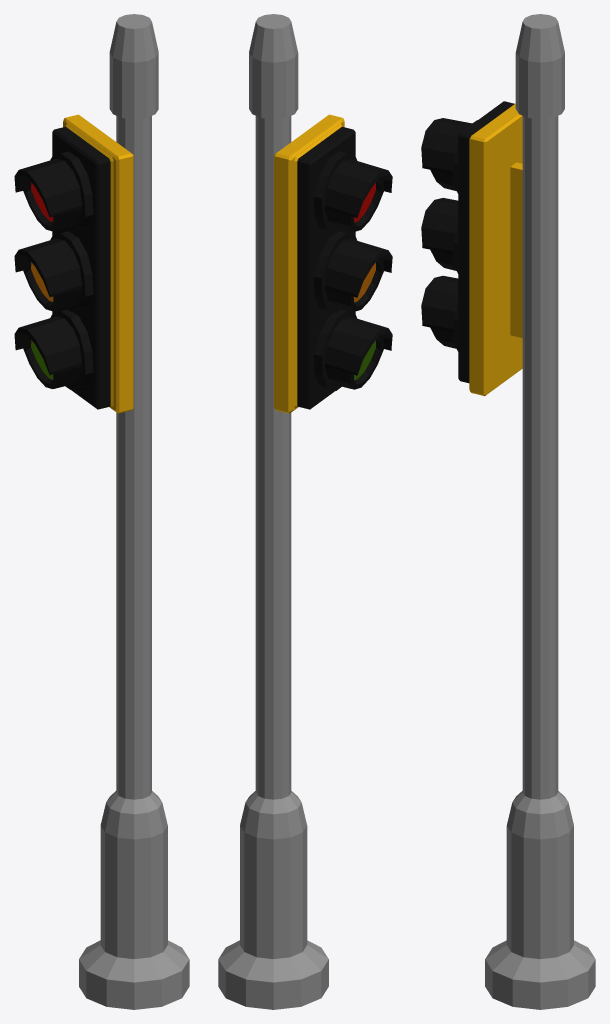
Rendered from TLight.fbx.
3 renders of one model, left to right at view 1: azimuth 30°, elevation 25°; view 2: azimuth 150°, elevation 25°; view 3: azimuth 330°, elevation 25°, orthographic.
Visible parts, largest first — view 1: Traffic Lights1; view 2: Traffic Lights1; view 3: Traffic Lights1.
Part boxes in pixels (<box>): Traffic Lights1: <box>14,14,189,1009</box>; Traffic Lights1: <box>218,14,392,1009</box>; Traffic Lights1: <box>421,14,595,1009</box>.
Bounding box in the file's own units: 51.29 × 305 × 31.81.
